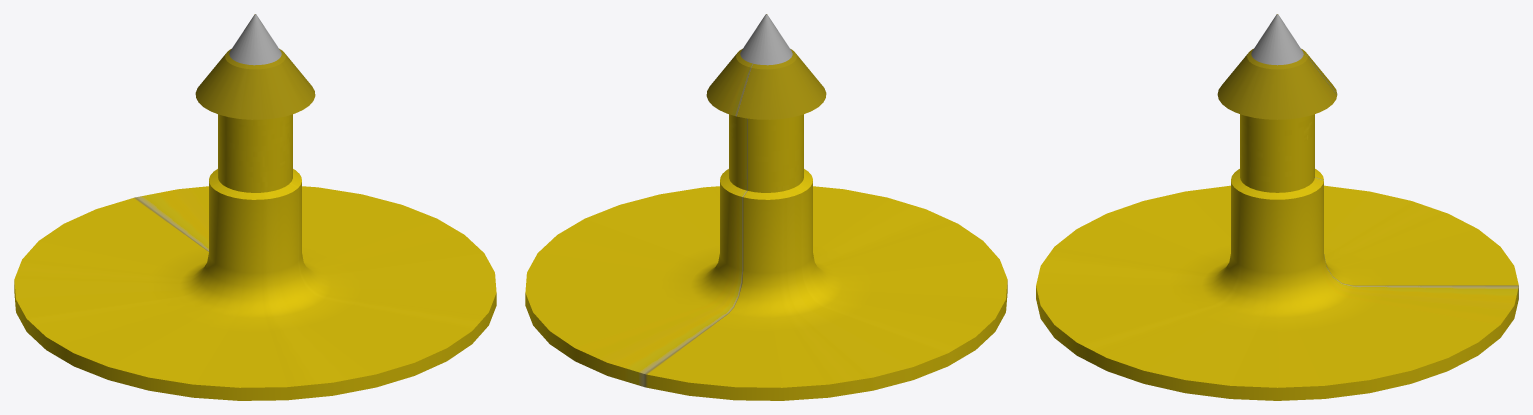
Rendered from Brinco.glb.
3 renders of one model, left to right at view 1: azimuth 30°, elevation 25°; view 2: azimuth 150°, elevation 25°; view 3: azimuth 270°, elevation 25°, orthographic.
Visible parts, largest first — view 1: BrincoA; view 2: BrincoA; view 3: BrincoA.
Part boxes in pixels (x1,y1,x2,y2): BrincoA: [14, 14, 496, 400]; BrincoA: [525, 14, 1007, 400]; BrincoA: [1036, 14, 1518, 400].
Size of what is drawn, in the model's own units: 0.0919 by 0.0598 by 0.0919.
Materials: 2 (1 with a texture image).
